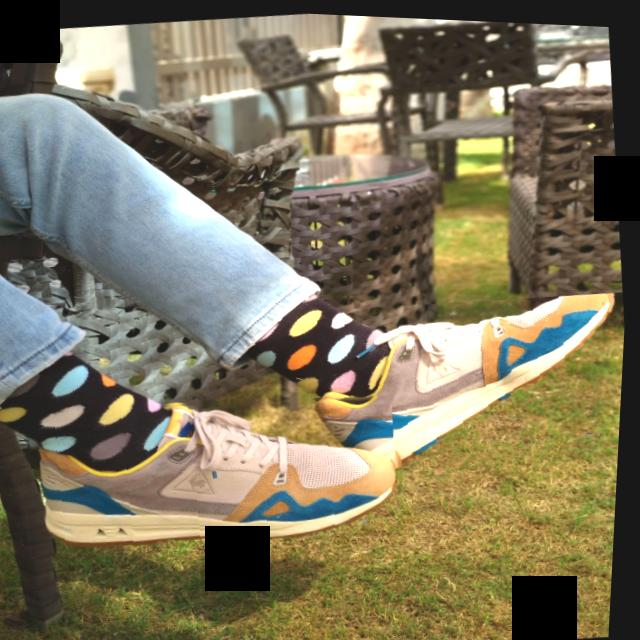shoe: (17, 372, 410, 569), (298, 274, 629, 483)
